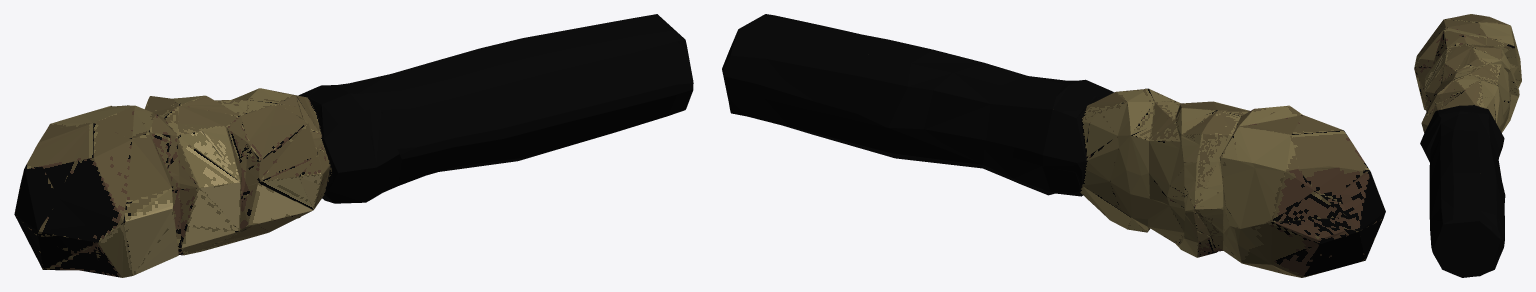
The picture shows the model from 3 angles, left to right: view 1: azimuth 30°, elevation 25°; view 2: azimuth 150°, elevation 25°; view 3: azimuth 270°, elevation 25°; orthographic projection. The views are drawn at different scales.
Parts seen in each view (by area): view 1: OBJ091; view 2: OBJ091; view 3: OBJ091.
Part boxes in pixels (left/top/right/bottom): OBJ091: left=14, top=14, right=693, bottom=277; OBJ091: left=722, top=14, right=1385, bottom=277; OBJ091: left=1414, top=14, right=1521, bottom=277.
Bounding box in the file's own units: 0.292 × 0.0648 × 0.0651.
Materials: 1 (1 with a texture image).
